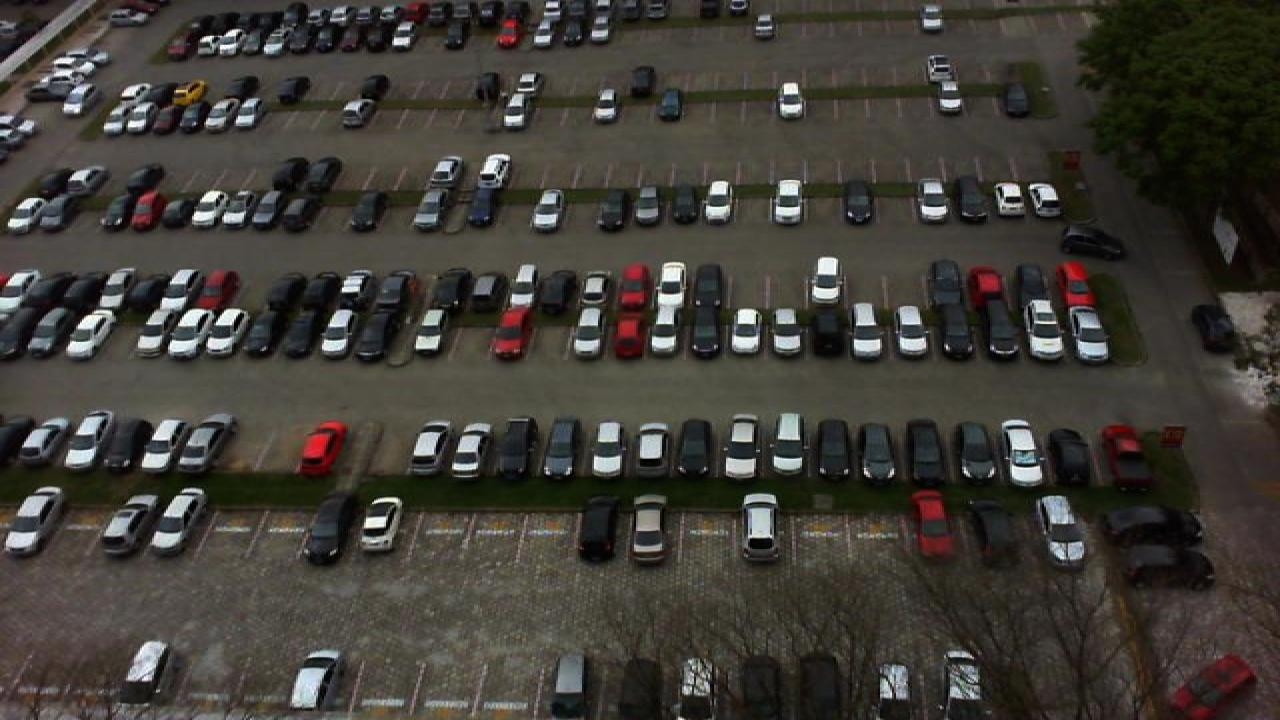Car: (1162, 652, 1258, 720), (1100, 499, 1208, 548), (0, 486, 64, 556), (904, 485, 962, 562), (1032, 492, 1090, 569), (1118, 544, 1218, 588), (296, 488, 352, 564), (968, 495, 1026, 567), (286, 648, 344, 720), (154, 486, 212, 557), (936, 647, 992, 720), (100, 489, 160, 557), (118, 639, 176, 709), (1100, 423, 1156, 492), (996, 417, 1048, 488), (902, 416, 954, 486), (178, 413, 234, 474), (668, 657, 722, 720), (546, 652, 596, 720), (810, 416, 858, 484), (294, 420, 350, 478), (572, 494, 618, 564), (738, 489, 782, 562), (628, 493, 672, 565), (950, 421, 998, 487), (764, 411, 810, 479), (1062, 302, 1112, 364), (856, 420, 904, 484), (64, 411, 116, 470), (136, 414, 188, 472), (406, 421, 458, 479), (356, 494, 406, 554), (1046, 428, 1096, 488), (1020, 299, 1068, 361), (490, 417, 536, 481), (540, 417, 584, 481), (718, 414, 760, 480), (446, 421, 494, 478), (1054, 223, 1126, 261), (66, 307, 118, 359), (674, 417, 716, 480), (932, 303, 978, 360), (28, 308, 78, 360), (488, 305, 534, 361), (628, 422, 672, 480), (134, 307, 182, 360), (1190, 302, 1238, 354), (586, 422, 628, 481), (568, 305, 612, 361), (410, 307, 456, 360), (980, 302, 1022, 360), (16, 417, 62, 469), (206, 308, 252, 360), (170, 308, 216, 359), (316, 308, 362, 359), (886, 302, 926, 360), (352, 307, 394, 361), (804, 306, 846, 360), (158, 266, 204, 314), (844, 304, 884, 359), (646, 305, 686, 359), (246, 310, 290, 359), (282, 309, 324, 360), (804, 255, 846, 306), (766, 307, 806, 360), (1054, 260, 1100, 306), (196, 268, 242, 314), (726, 307, 766, 359), (686, 305, 724, 359), (2, 194, 52, 234), (372, 270, 418, 313), (924, 259, 964, 307), (430, 267, 470, 315), (302, 271, 346, 314), (1010, 262, 1052, 307), (464, 269, 506, 314), (0, 307, 36, 359), (768, 178, 806, 227), (338, 271, 380, 315), (16, 270, 58, 314), (914, 176, 954, 222), (612, 309, 648, 360), (614, 261, 650, 312), (454, 188, 494, 233), (956, 176, 996, 221), (686, 261, 724, 308), (652, 260, 688, 309), (576, 262, 612, 311), (964, 264, 1004, 308), (528, 188, 566, 234), (36, 190, 76, 233), (700, 178, 736, 225), (840, 179, 876, 226), (270, 272, 310, 314), (52, 272, 94, 312), (120, 274, 164, 312), (472, 152, 516, 190), (188, 188, 226, 231), (280, 189, 318, 232), (128, 187, 164, 232), (636, 184, 672, 229), (250, 187, 286, 231), (348, 189, 384, 233), (410, 189, 446, 233), (594, 188, 630, 232), (506, 264, 540, 310), (88, 272, 128, 310), (98, 189, 134, 231), (160, 191, 196, 232), (100, 101, 144, 134), (992, 180, 1028, 220), (272, 156, 312, 192), (220, 189, 254, 231), (1026, 181, 1064, 218), (62, 166, 110, 195), (426, 154, 464, 190), (308, 154, 344, 192), (338, 96, 378, 130), (24, 78, 76, 104), (670, 184, 702, 226), (124, 163, 166, 195), (998, 80, 1032, 119), (542, 269, 574, 310), (774, 81, 806, 121), (130, 101, 168, 134), (156, 101, 194, 134), (0, 268, 28, 312), (208, 96, 242, 132), (492, 94, 526, 130), (276, 75, 314, 107), (468, 72, 502, 107), (36, 169, 74, 199), (652, 87, 684, 122), (590, 88, 620, 125), (236, 97, 270, 129), (932, 81, 962, 117), (170, 78, 206, 108), (356, 74, 390, 105), (184, 102, 216, 134), (922, 53, 956, 83), (46, 51, 96, 71), (628, 64, 658, 97), (494, 18, 524, 51), (230, 76, 264, 105), (510, 70, 542, 100), (916, 3, 946, 35), (214, 26, 244, 58), (120, 81, 156, 107), (442, 22, 472, 53), (286, 25, 316, 56), (190, 29, 222, 58), (164, 31, 196, 60), (748, 10, 778, 40), (338, 24, 368, 54), (42, 66, 86, 86), (366, 23, 396, 52), (530, 19, 558, 50), (394, 20, 422, 51), (312, 25, 340, 55), (262, 26, 290, 56), (560, 19, 588, 48), (70, 46, 110, 66), (590, 17, 616, 47), (238, 26, 264, 56)
